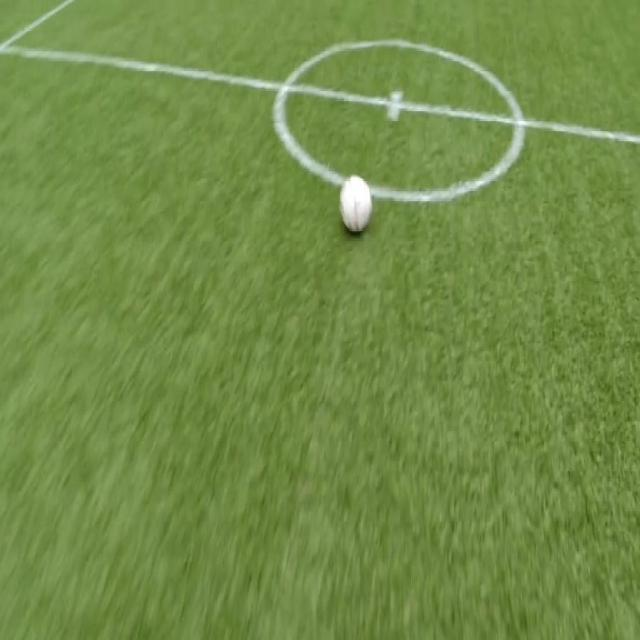ball: (339, 175, 370, 232)
